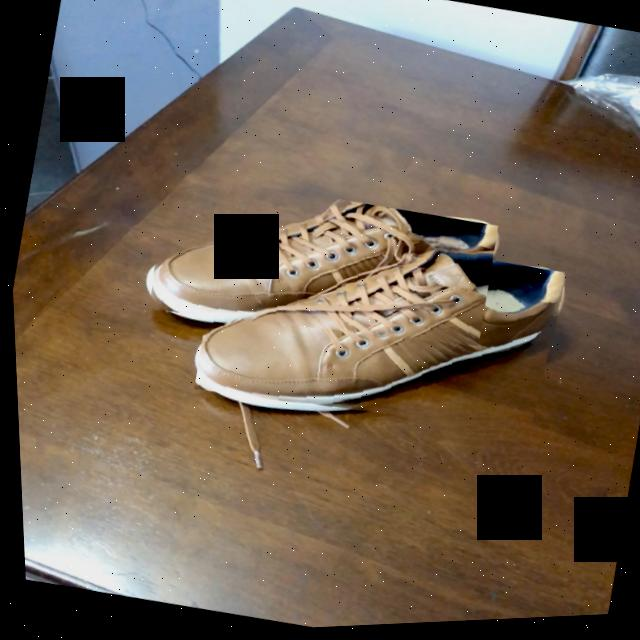shoe: (192, 264, 562, 407), (148, 206, 494, 320)
